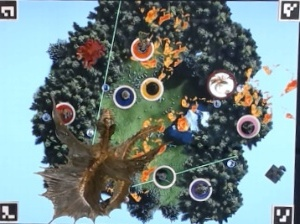blue: (111, 82, 138, 111)
green: (151, 162, 179, 189)
orange: (131, 35, 154, 62)
pink: (234, 111, 266, 140)
red: (49, 99, 75, 128)
violet: (187, 175, 215, 200)
yellow: (139, 75, 168, 100)
